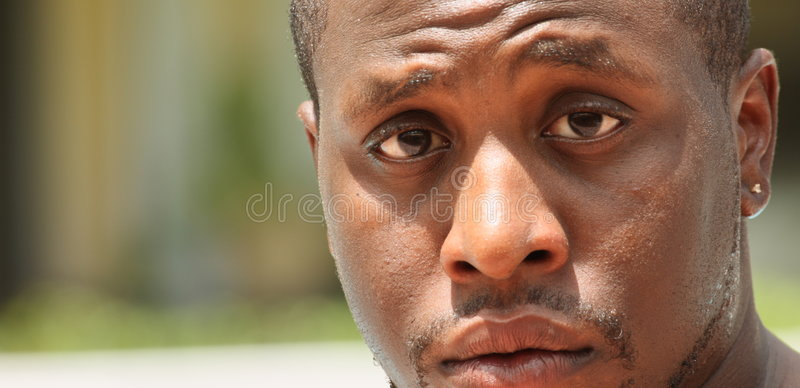confused: (311, 29, 660, 388)
